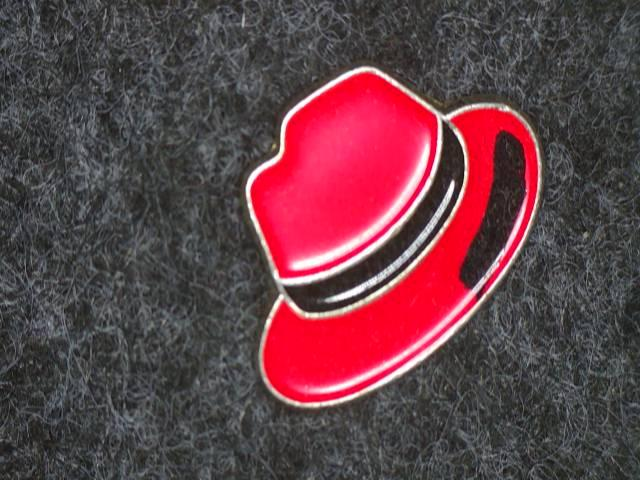Red-Hat: (176, 31, 575, 431)
Scratch: (449, 122, 550, 335)
